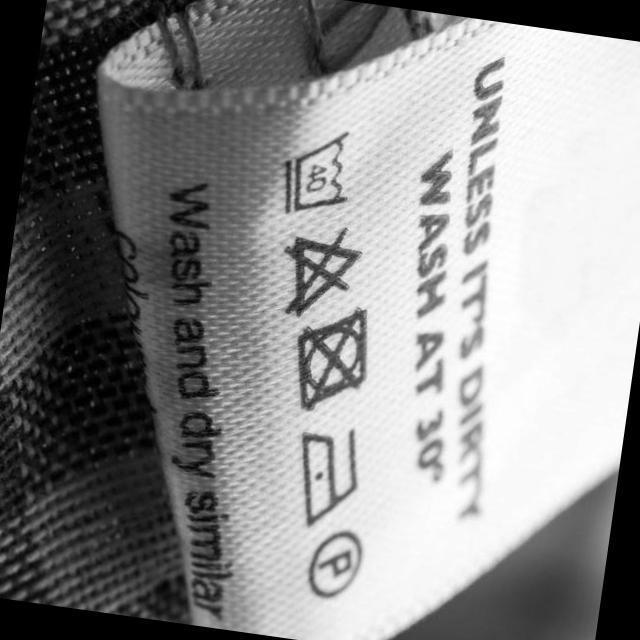40C: (270, 118, 366, 230)
DN_bleach: (264, 216, 371, 332)
DN_tumble_dry: (278, 292, 384, 424)
iron_low: (282, 414, 372, 542)
normal_dry_clean_solvents: (298, 518, 372, 610)
